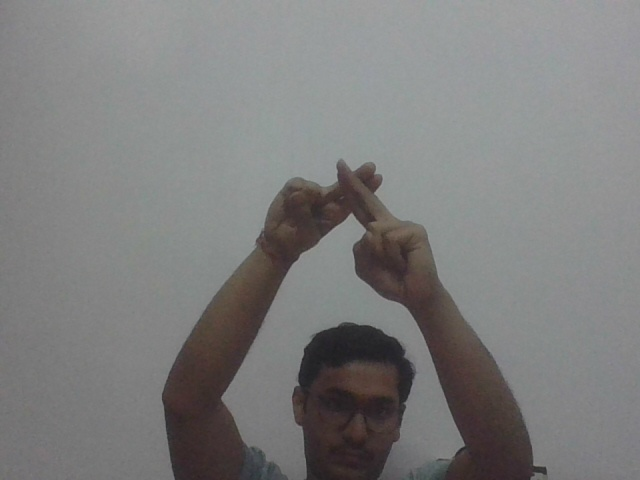F: (264, 155, 450, 308)
